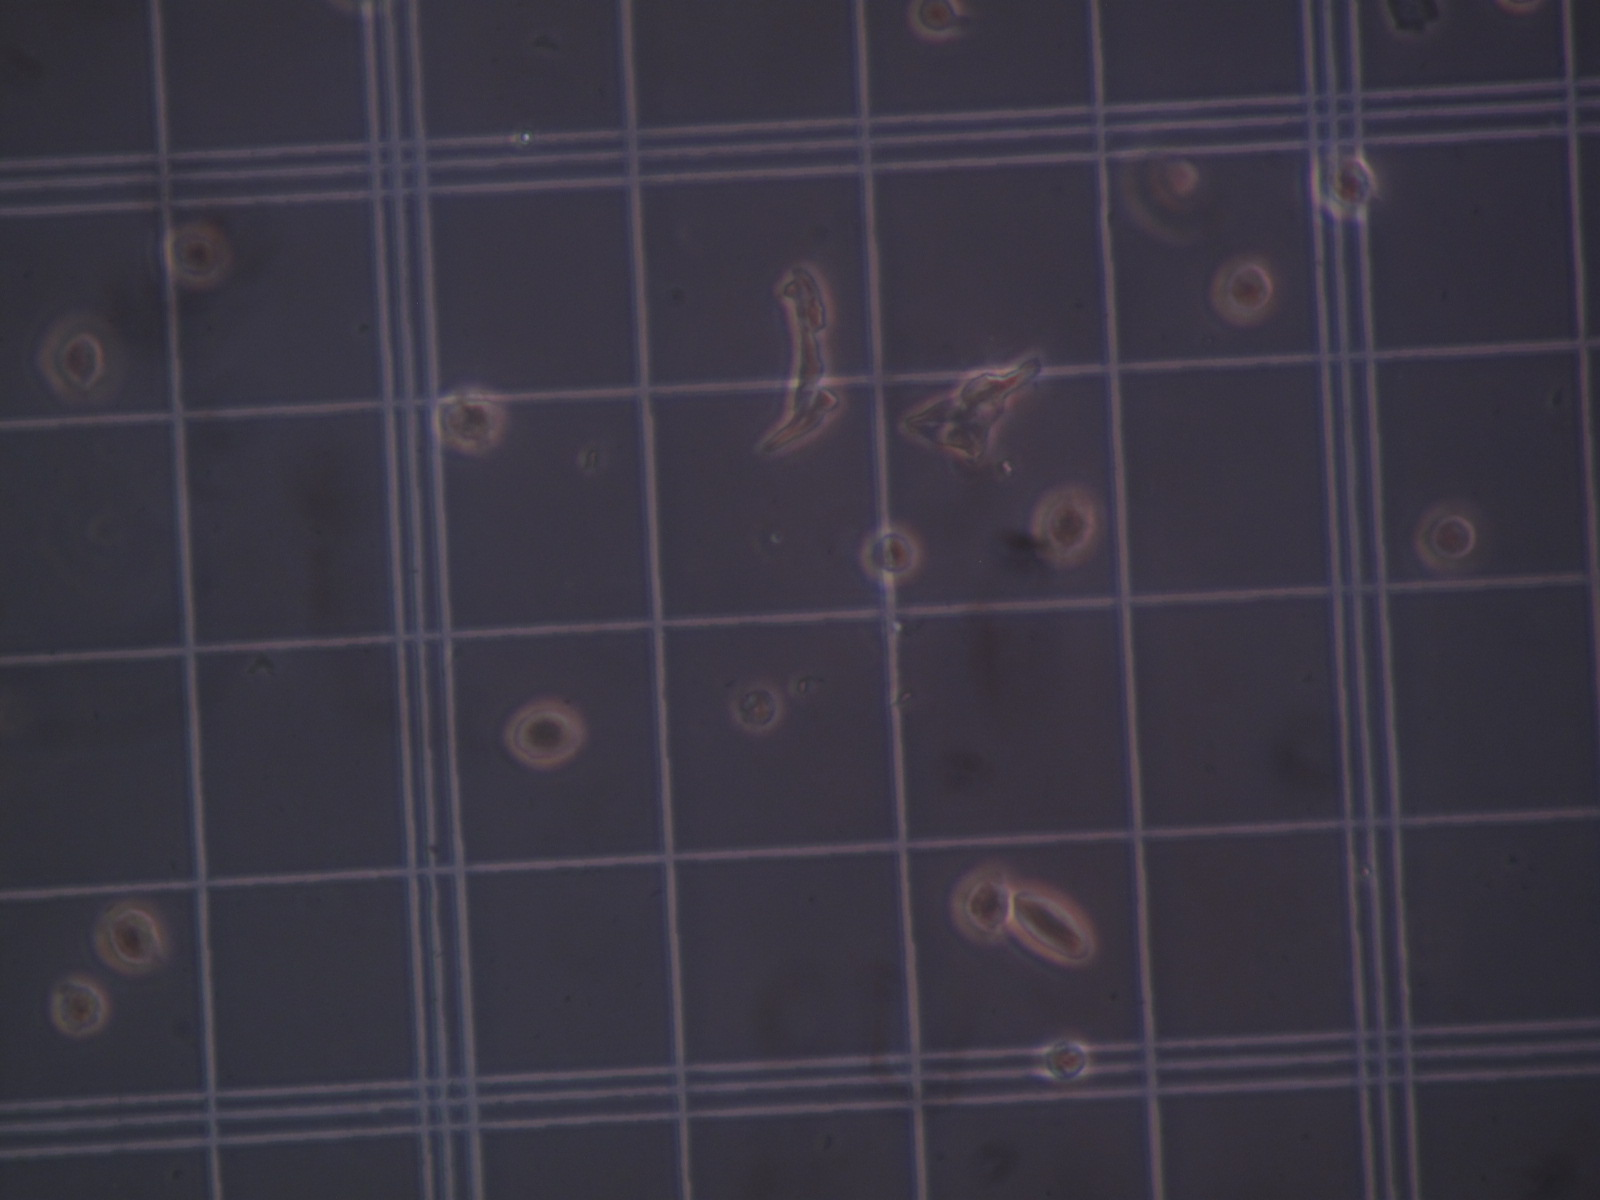hemo: (1117, 141, 1206, 245), (1008, 879, 1099, 971), (37, 311, 123, 405), (1415, 495, 1492, 575), (1029, 487, 1105, 567), (92, 896, 168, 973), (501, 701, 586, 768), (156, 219, 236, 290), (947, 865, 1015, 945), (1309, 150, 1377, 223), (1209, 253, 1277, 326), (432, 388, 506, 453), (860, 523, 923, 582), (50, 977, 108, 1036), (729, 681, 784, 731), (1041, 1037, 1090, 1084), (905, 1, 964, 39)
